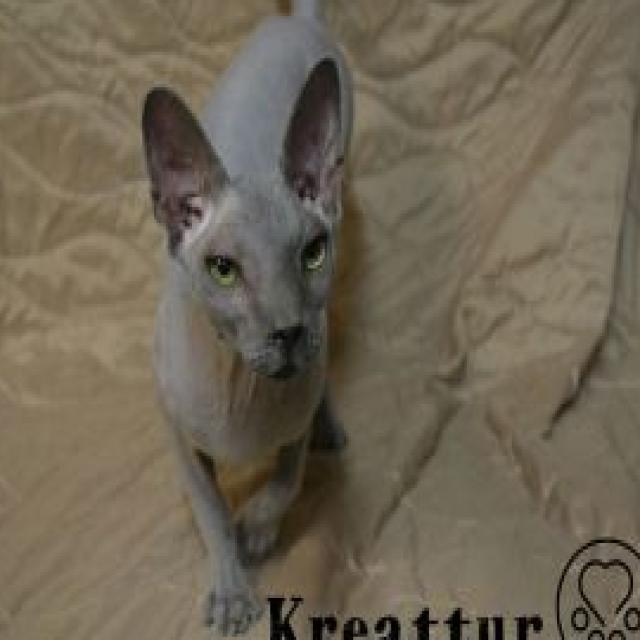Sphynx: (137, 0, 358, 640)
